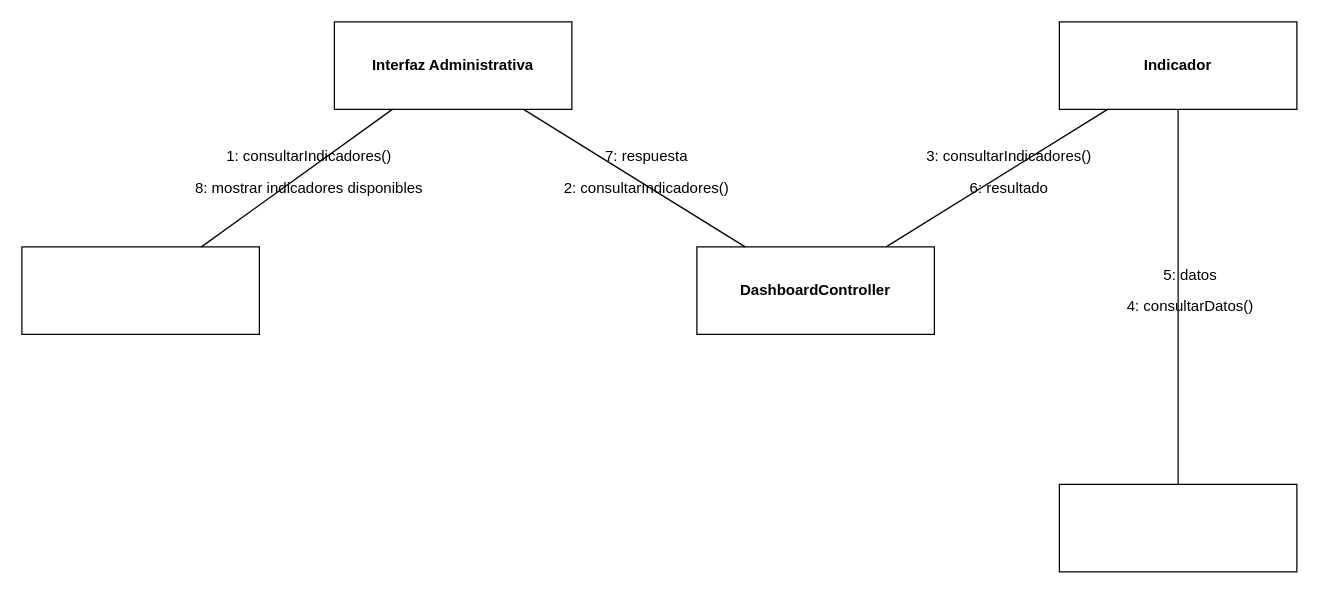
This 1344x594 diagram has some shape labels left out. Each missing label, with the centre of its shape:
Administrador: point 140,290
Supabase/PostgreSQL: point 1177,527
